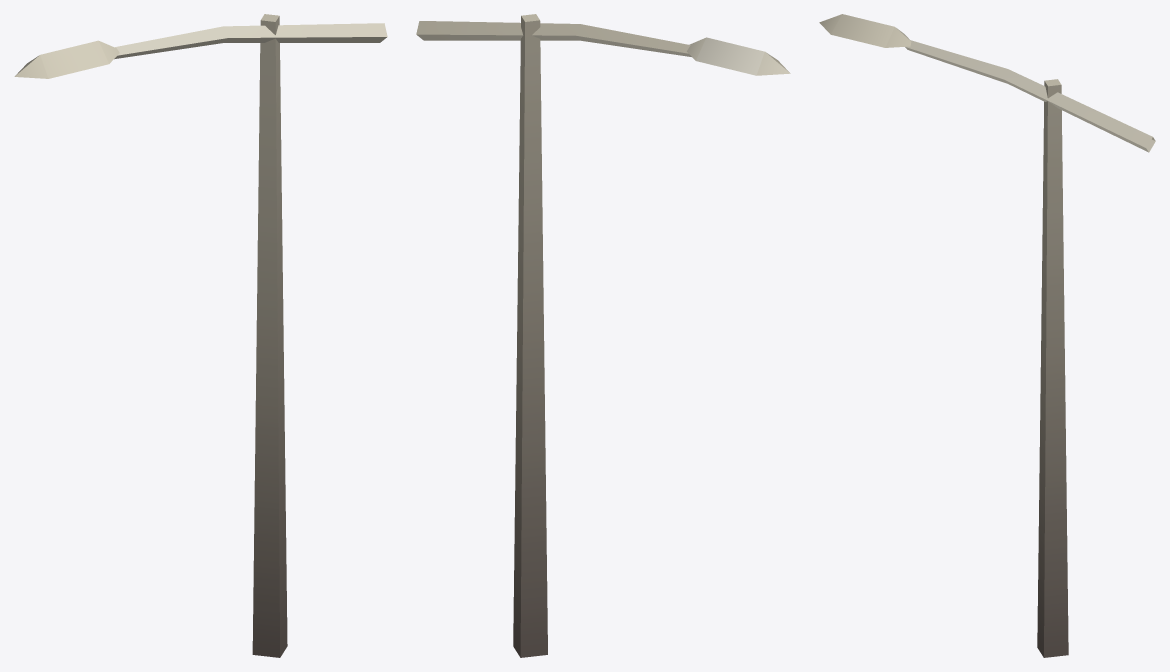
File: SM_Pole_01.fbx
The picture shows the model from 3 angles, left to right: view 1: azimuth 30°, elevation 25°; view 2: azimuth 150°, elevation 25°; view 3: azimuth 330°, elevation 25°; orthographic projection. The views are drawn at different scales.
Visible parts, largest first — view 1: SM_Pole_01; view 2: SM_Pole_01; view 3: SM_Pole_01.
Boxes of the visible parts, left/top/right/bottom form: SM_Pole_01: left=14, top=14, right=387, bottom=657; SM_Pole_01: left=416, top=14, right=790, bottom=657; SM_Pole_01: left=819, top=14, right=1155, bottom=657.
Bounding box in the file's own units: 1.23 × 2.07 × 0.1315.
